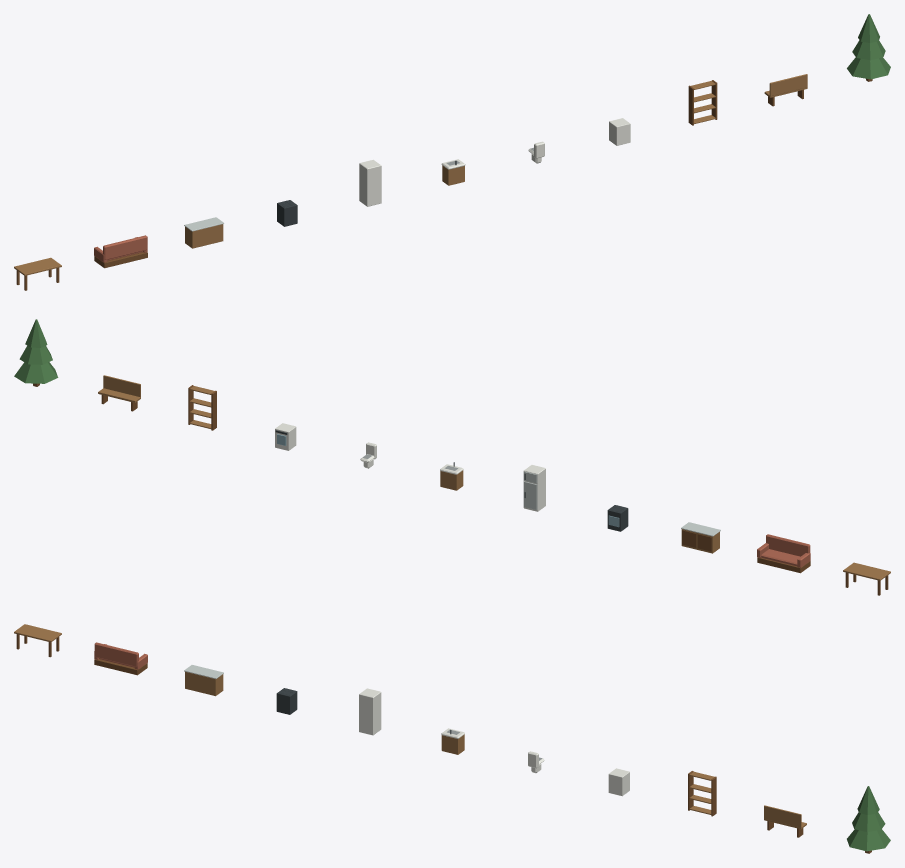
Rendered from furniture_kit_alfa.fbx.
3 renders of one model, top to bottom at view 1: azimuth 30°, elevation 25°; view 2: azimuth 150°, elevation 25°; view 3: azimuth 330°, elevation 25°, orthographic.
Parts seen in each view (by area): view 1: Kit_Fridge_Case, Kit_Pine_Foliage, Kit_Sofa_Back, Kit_Counter_Body; view 2: Kit_Pine_Foliage, Kit_Sofa_Back; view 3: Kit_Fridge_Case, Kit_Pine_Foliage, Kit_Sofa_Back, Kit_Counter_Body, Kit_PatioBench_Back, Kit_Washer_Body, Kit_Pine_Foliage.001, Kit_Table_Top, Kit_Stove_Body.
Boxes of the visible parts, left/top/right/bottom form: Kit_Fridge_Case: left=359, top=159, right=381, bottom=206; Kit_Pine_Foliage: left=847, top=57, right=890, bottom=79; Kit_Sofa_Back: left=103, top=235, right=147, bottom=259; Kit_Counter_Body: left=185, top=224, right=223, bottom=248; Kit_Pine_Foliage: left=14, top=362, right=58, bottom=383; Kit_Sofa_Back: left=766, top=534, right=810, bottom=556; Kit_Fridge_Case: left=359, top=688, right=381, bottom=735; Kit_Pine_Foliage: left=847, top=829, right=890, bottom=851; Kit_Sofa_Back: left=94, top=642, right=138, bottom=666; Kit_Counter_Body: left=185, top=671, right=223, bottom=696; Kit_PatioBench_Back: left=764, top=805, right=801, bottom=827; Kit_Washer_Body: left=608, top=768, right=629, bottom=796; Kit_Pine_Foliage.001: left=852, top=812, right=885, bottom=832; Kit_Table_Top: left=14, top=624, right=61, bottom=642; Kit_Stove_Body: left=276, top=688, right=297, bottom=714.
Size of the model in its own units: 41.83 by 3.05 by 1.81.
